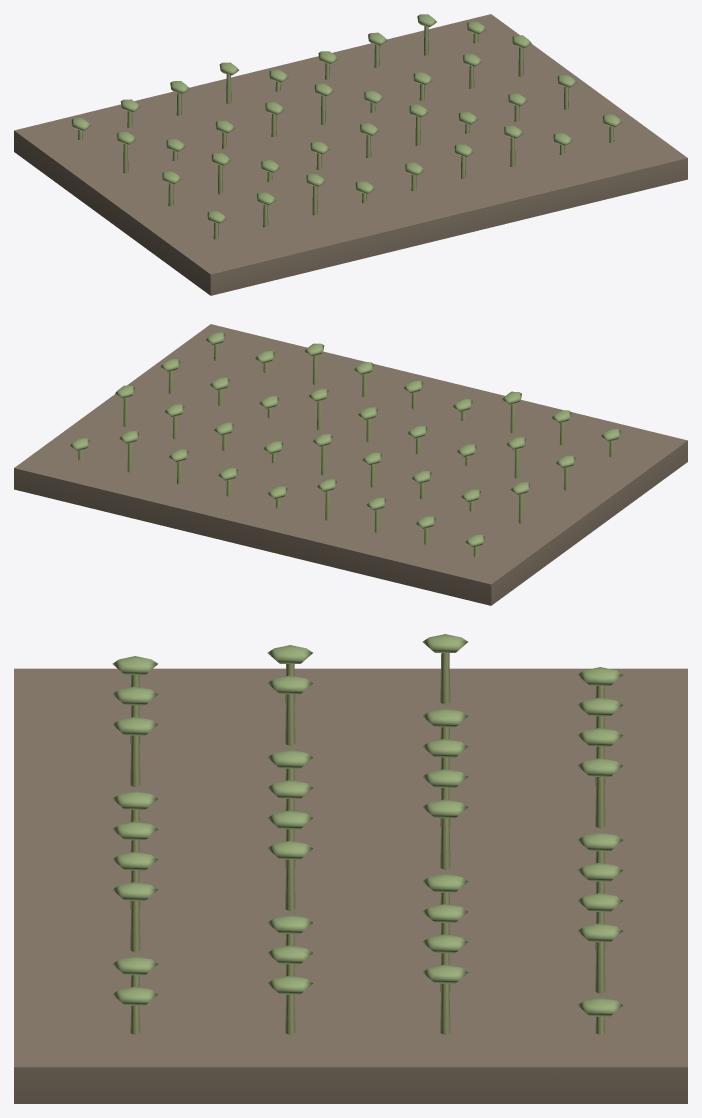
File: sprout-plot.glb
The picture shows the model from 3 angles, top to bottom: view 1: azimuth 30°, elevation 25°; view 2: azimuth 150°, elevation 25°; view 3: azimuth 270°, elevation 25°; orthographic projection. The views are drawn at different scales.
Visible parts, largest first — view 1: sprout-plot; view 2: sprout-plot; view 3: sprout-plot.
Boxes of the visible parts, x1,y1,x2,y2 form: sprout-plot: [14, 14, 687, 295]; sprout-plot: [14, 324, 687, 605]; sprout-plot: [14, 634, 687, 1103].
Bounding box in the file's own units: 7 × 0.84 × 5.
